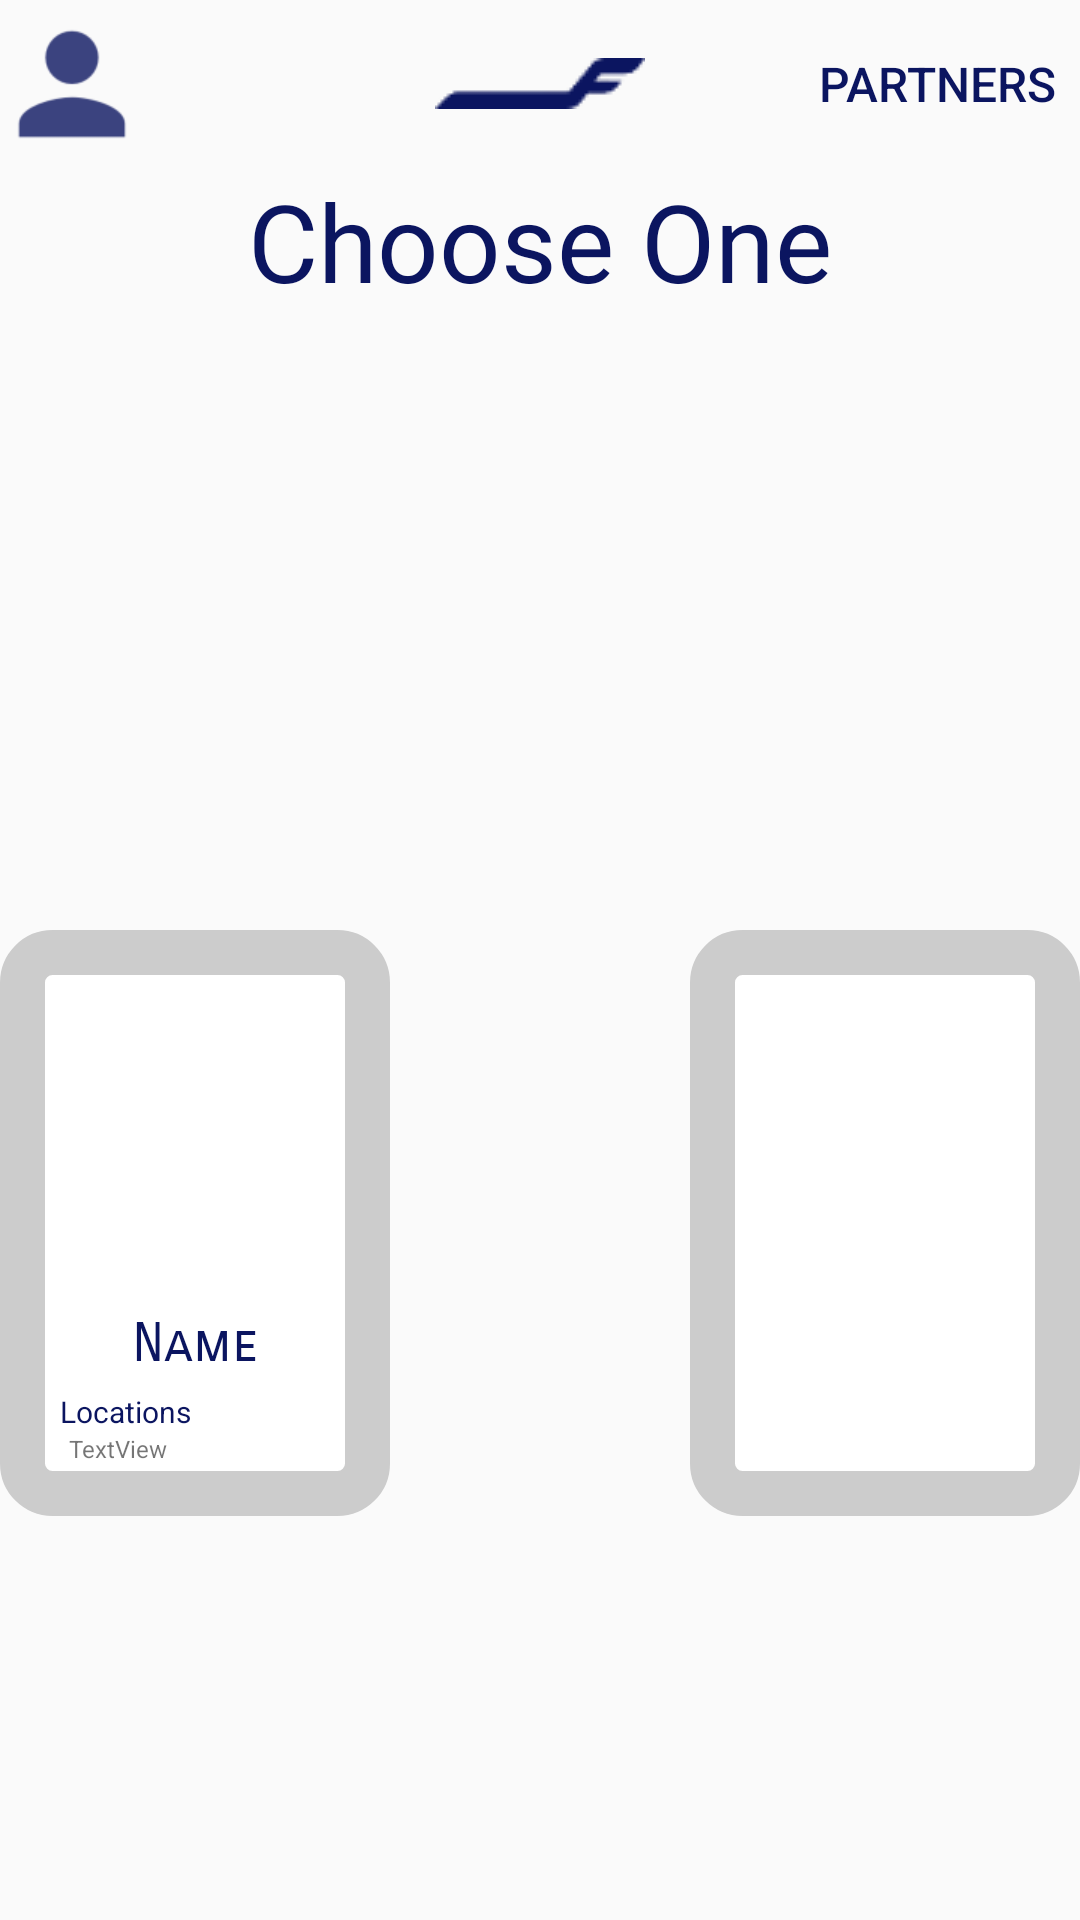

Named icons in this screenshot (1080px x 1920px) and their centers, (x=x, y=y):
person: (x=72, y=84)
